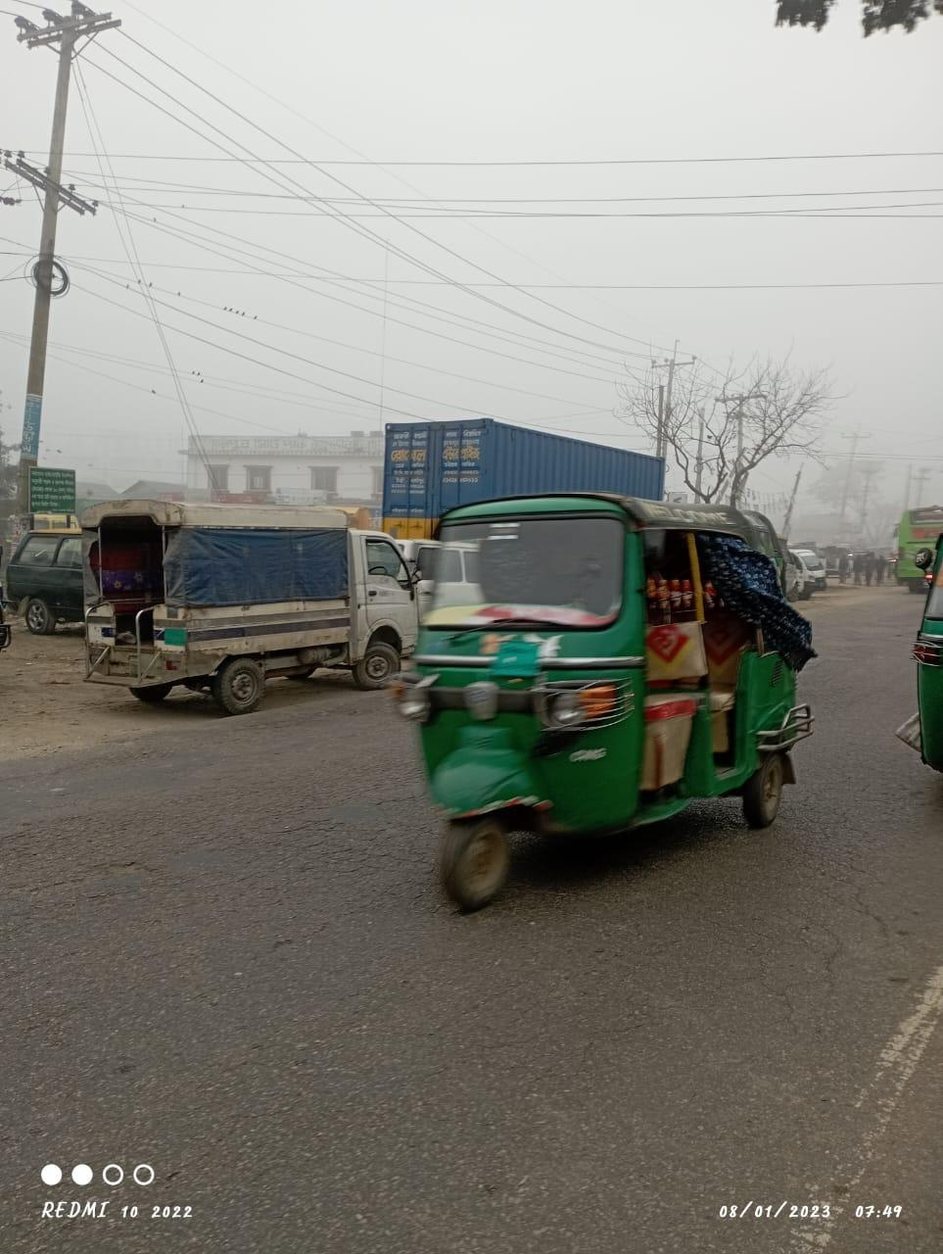Car: (74, 482, 424, 708)
Truck: (373, 409, 689, 534)
